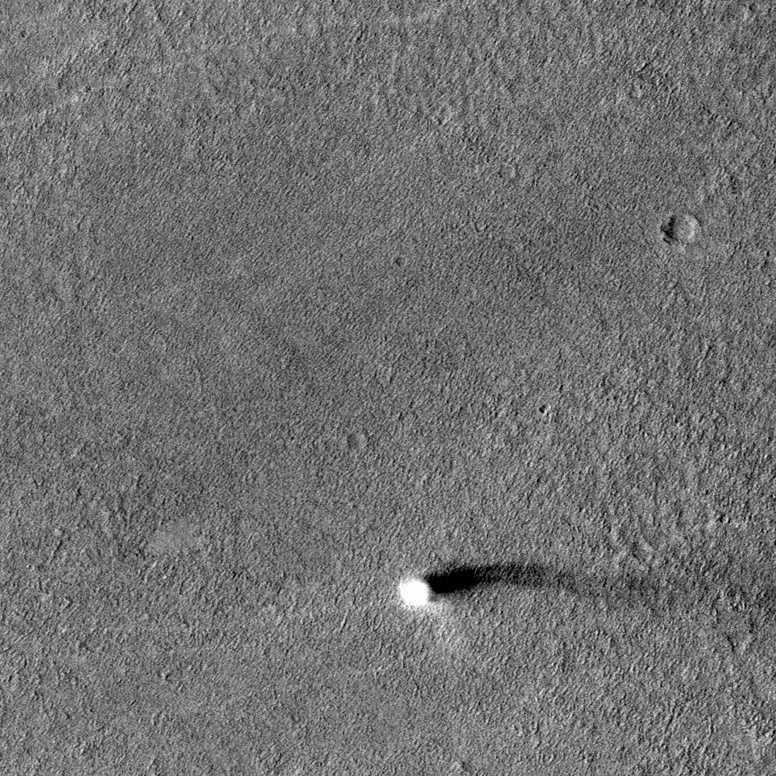dust_devil: (396, 558, 579, 610)
